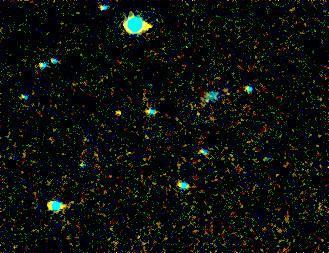star: (103, 99, 133, 129)
